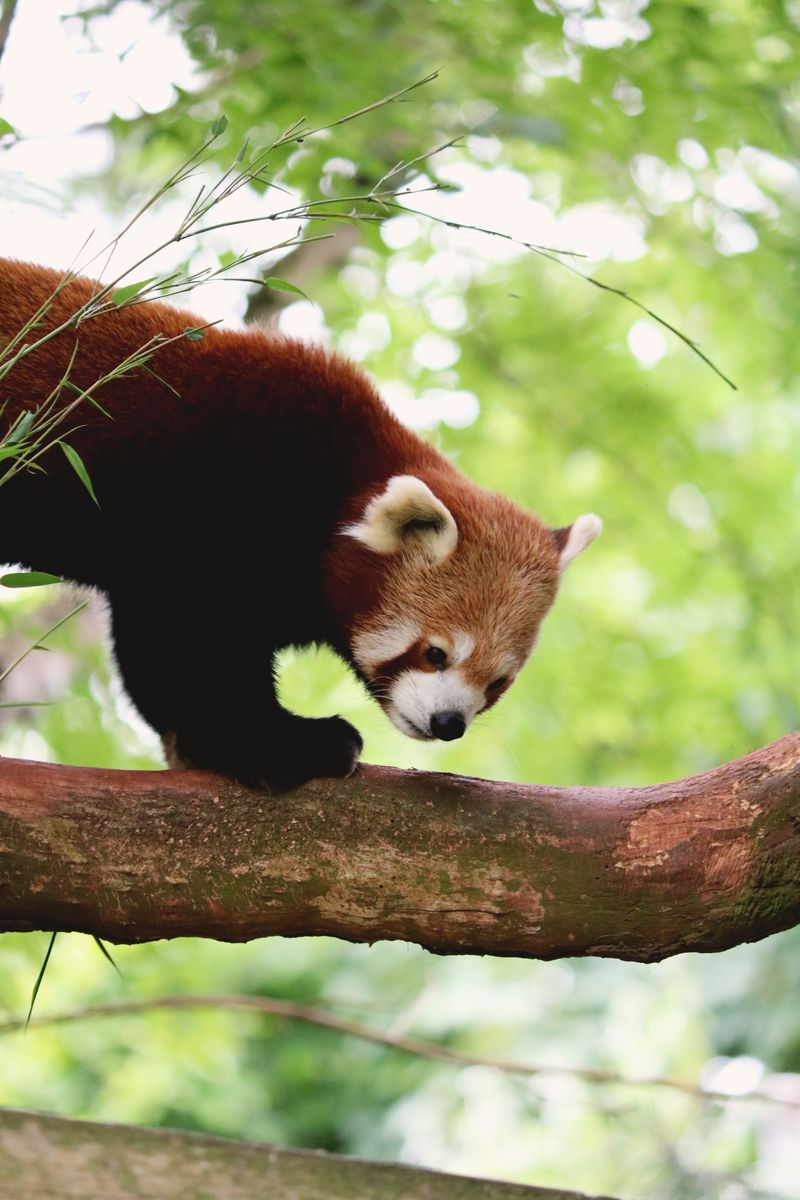red_panda: (0, 251, 609, 797)
